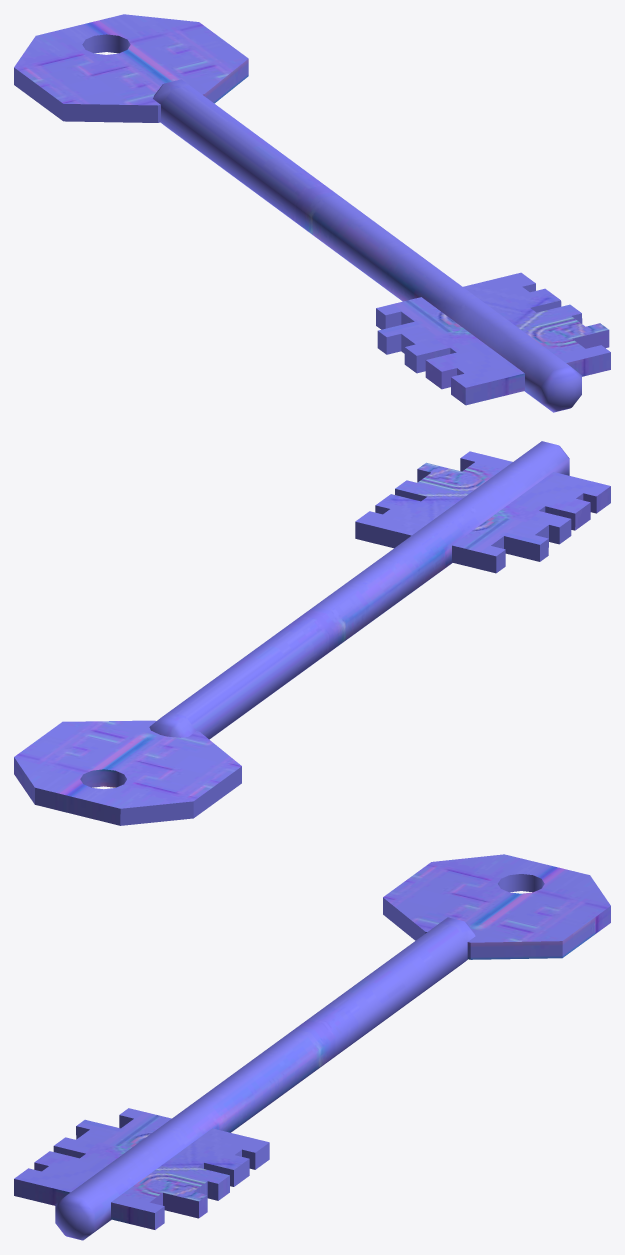
The model's file is Key.glb.
3 views of the same model, one above another, from view 1: azimuth 30°, elevation 25°; view 2: azimuth 150°, elevation 25°; view 3: azimuth 330°, elevation 25° (orthographic). The views are drawn at different scales.
Parts seen in each view (by area): view 1: Key; view 2: Key; view 3: Key.
Part boxes in pixels (bbox=[...]): Key: bbox=[14, 14, 610, 412]; Key: bbox=[14, 441, 610, 825]; Key: bbox=[14, 854, 610, 1240].
Size of the model in its own units: 0.5702 by 0.1271 by 2.61.
Materials: 1 (1 with a texture image).
